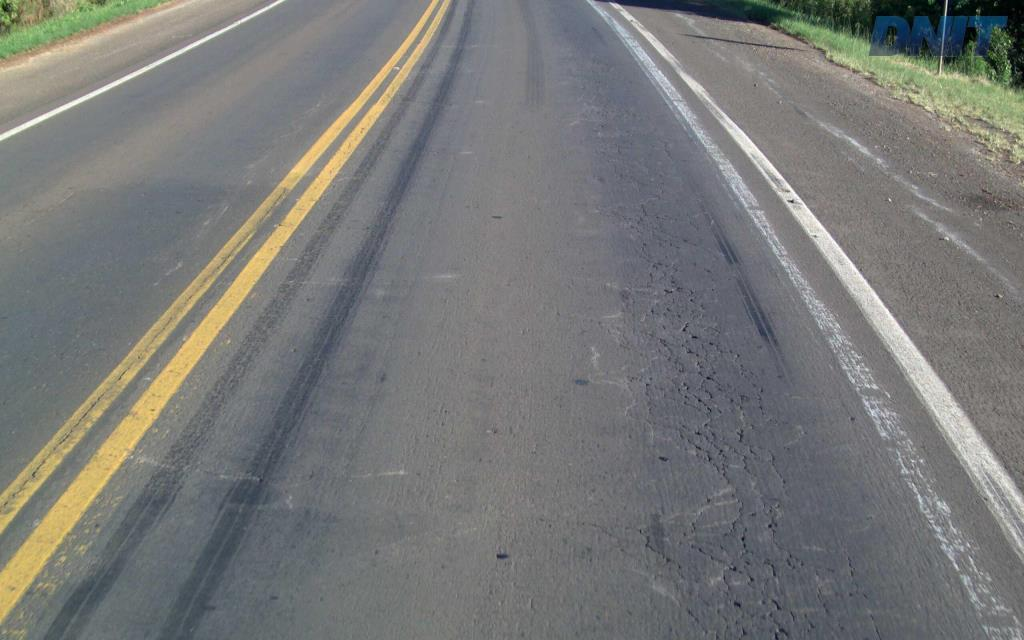crack: (671, 360, 771, 480)
